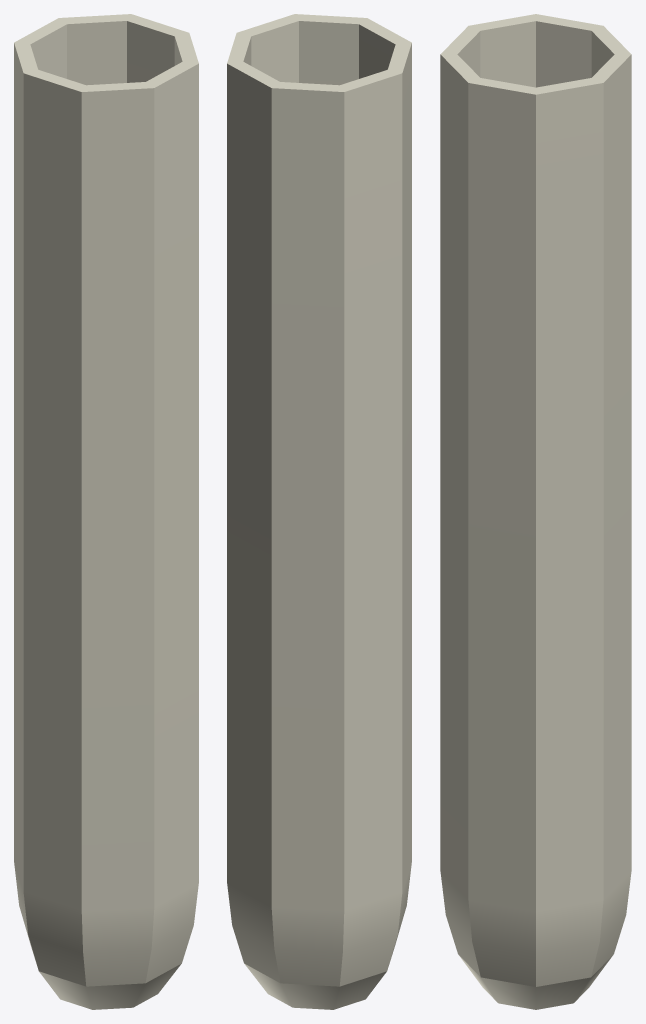
3 views of the same model, side by side, from view 1: azimuth 30°, elevation 25°; view 2: azimuth 150°, elevation 25°; view 3: azimuth 270°, elevation 25° (orthographic).
Parts seen in each view (by area): view 1: test_tube; view 2: test_tube; view 3: test_tube.
Boxes of the visible parts, x1,y1,x2,y2 form: test_tube: (14,14,198,1009); test_tube: (227,14,411,1009); test_tube: (440,14,631,1009).
Bounding box in the file's own units: 4.49 × 24.64 × 4.49.
